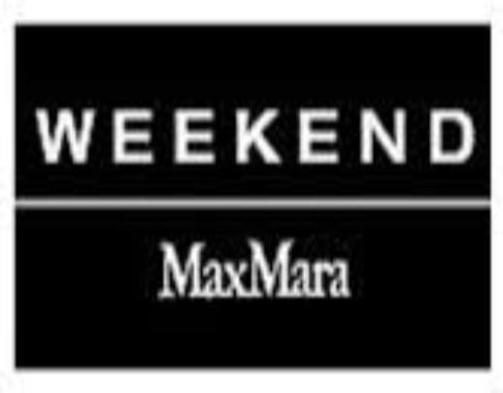MAX-MARA: (160, 237, 348, 299)
